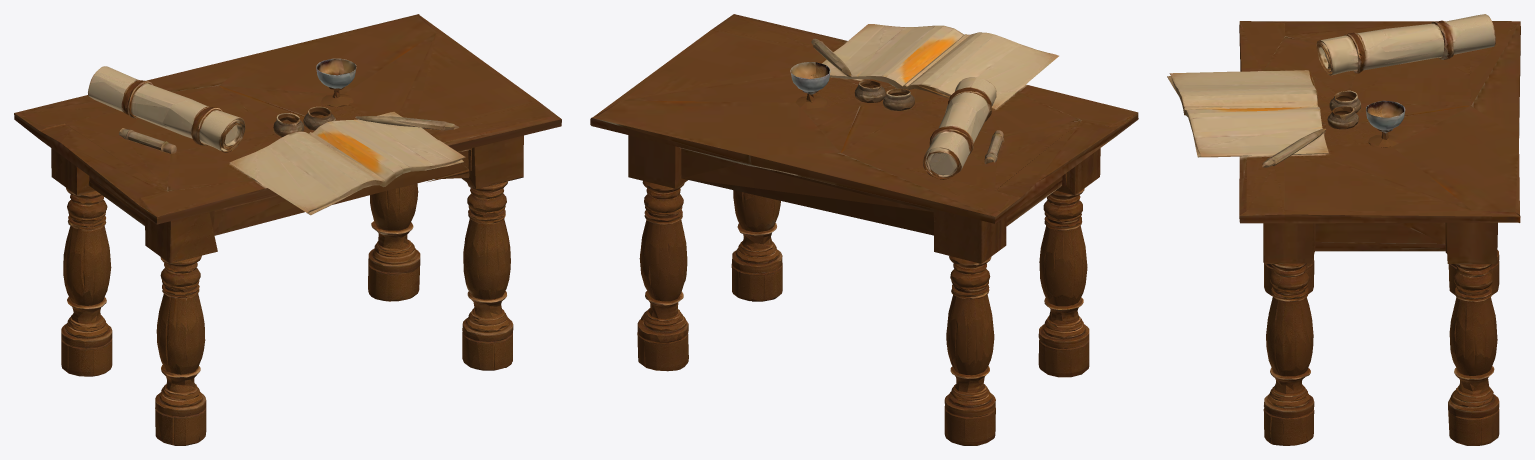
The model's file is writing-table.glb.
The picture shows the model from 3 angles, left to right: view 1: azimuth 30°, elevation 25°; view 2: azimuth 150°, elevation 25°; view 3: azimuth 270°, elevation 25°; orthographic projection.
Visible parts, largest first — view 1: writing-table; view 2: writing-table; view 3: writing-table.
Boxes of the visible parts, x1,y1,x2,y2 form: writing-table: (14,14,561,445); writing-table: (590,14,1138,445); writing-table: (1167,14,1520,445).
Bounding box in the file's own units: 1.2 × 0.8197 × 0.9206.
1 material, 1 textured.
